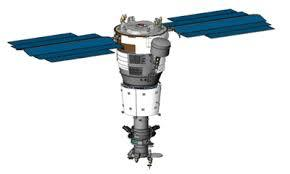antenna: (147, 163, 152, 170)
body: (109, 13, 169, 164)
solar: (163, 6, 277, 42), (5, 30, 127, 63)
